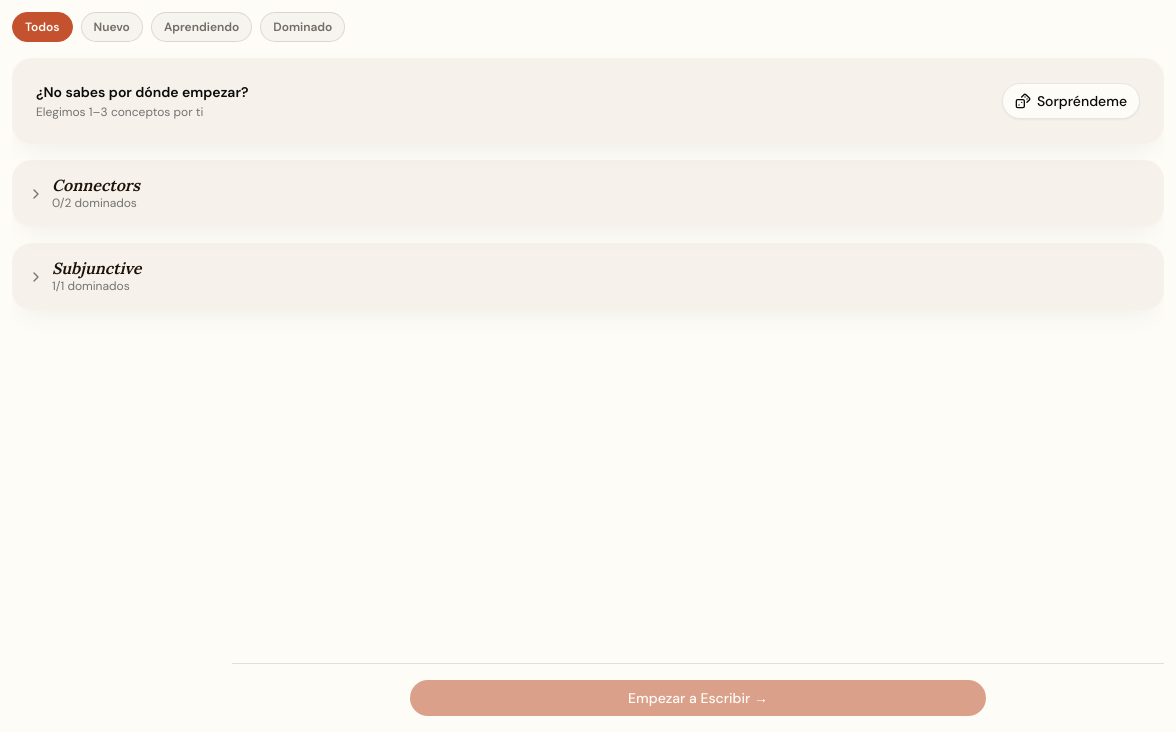
Test: ConceptPicker › Sorpréndeme selects exactly 3 concepts when random returns 0.99 first
What coordinates should you click on to do the following:
click the button "Sorpréndeme"
I would click on:
 (1071, 101)
Its box is x1=1002 y1=83 x2=1140 y2=119.
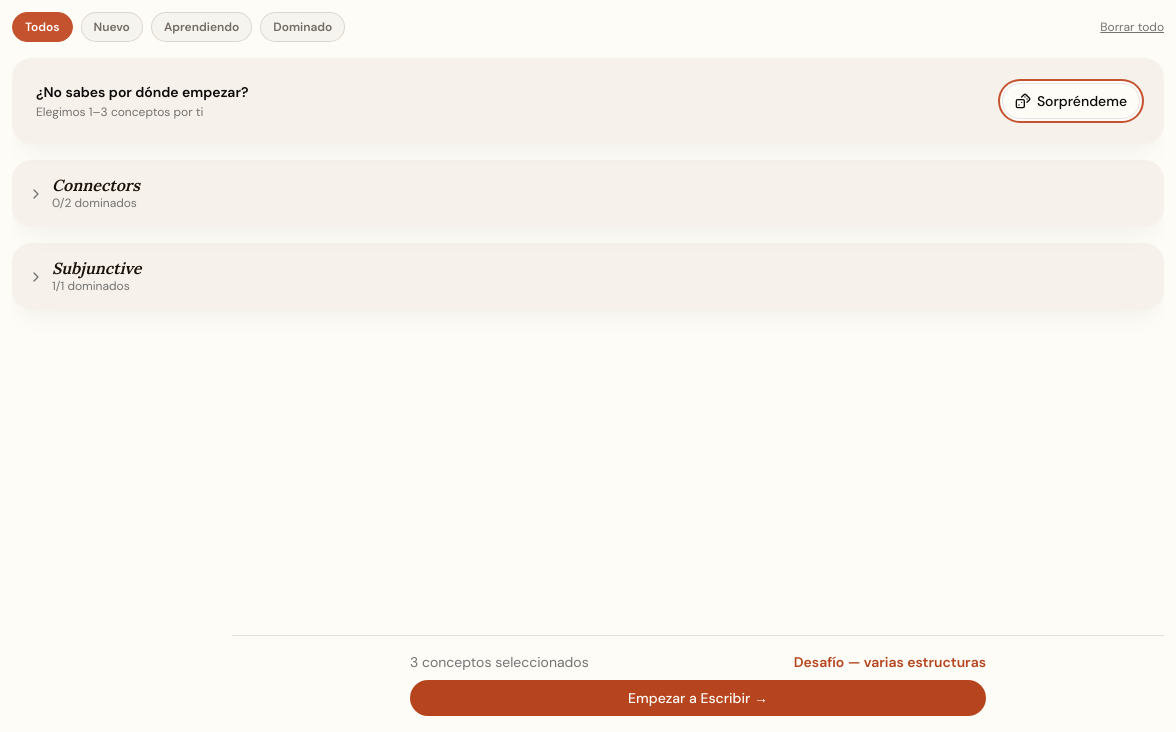
Now the text "3 conceptos seleccionados" is shown, box x1=410 y1=652 x2=589 y2=672
Now the text "Desafío — varias estructuras" is shown, box x1=794 y1=652 x2=986 y2=672
